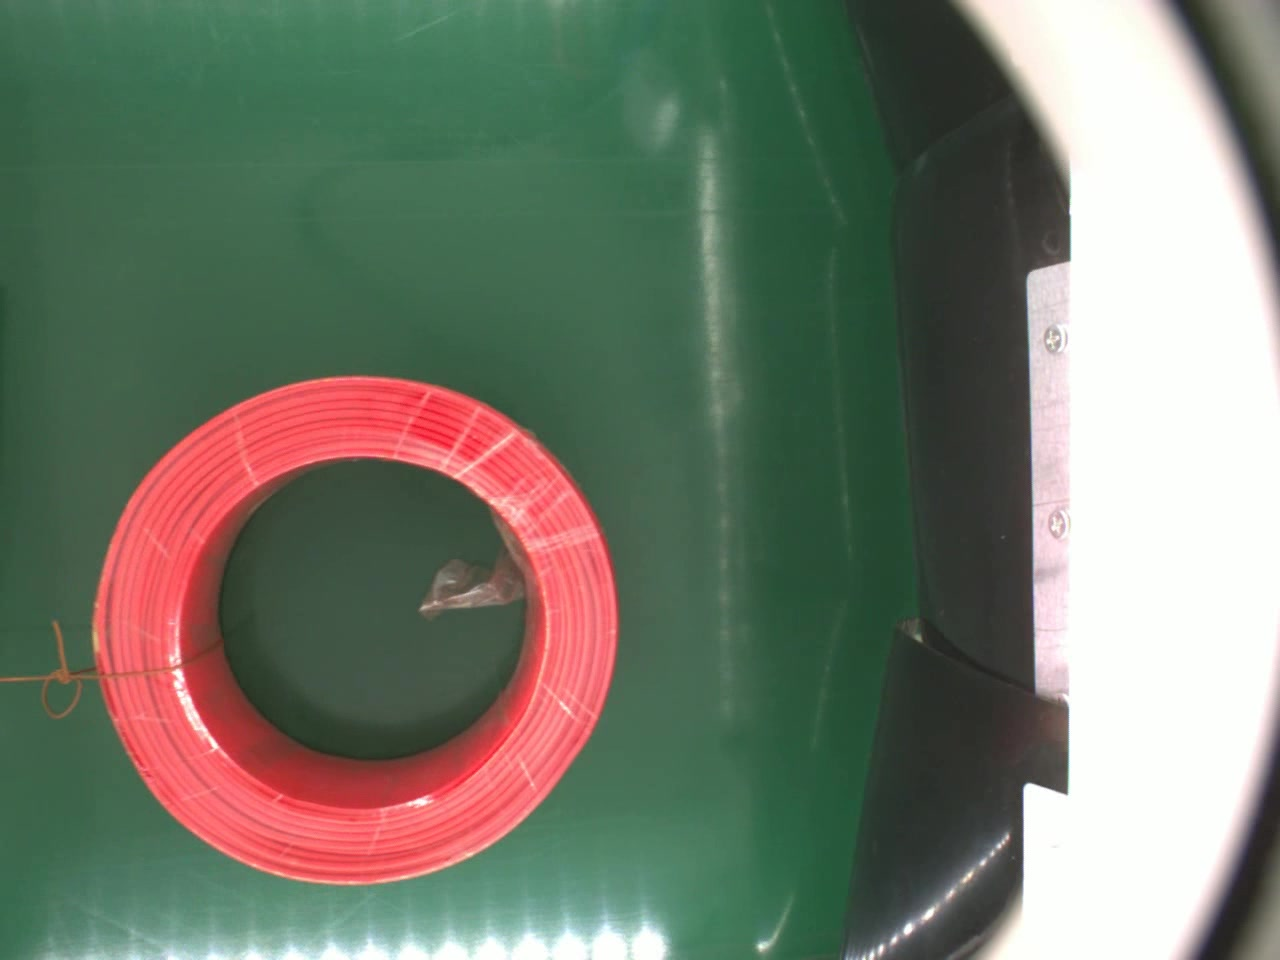red: (87, 375, 629, 897)
